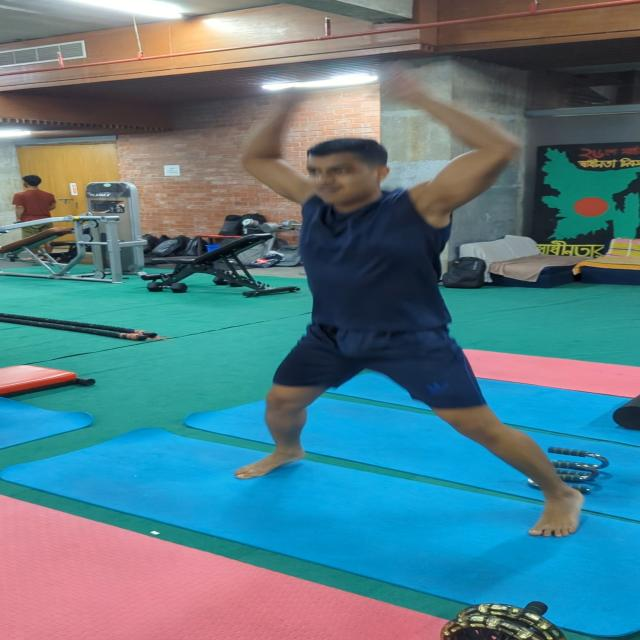Normal_JumpingJacks: (176, 66, 640, 581)
